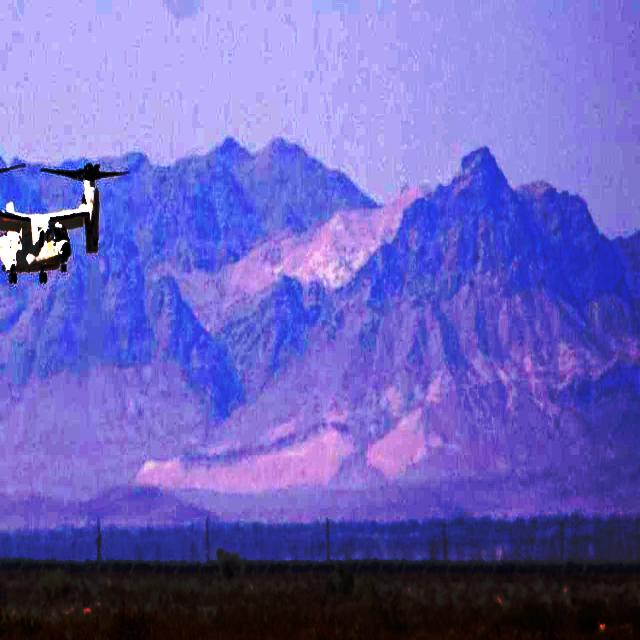Aircraft: (0, 153, 133, 294)
